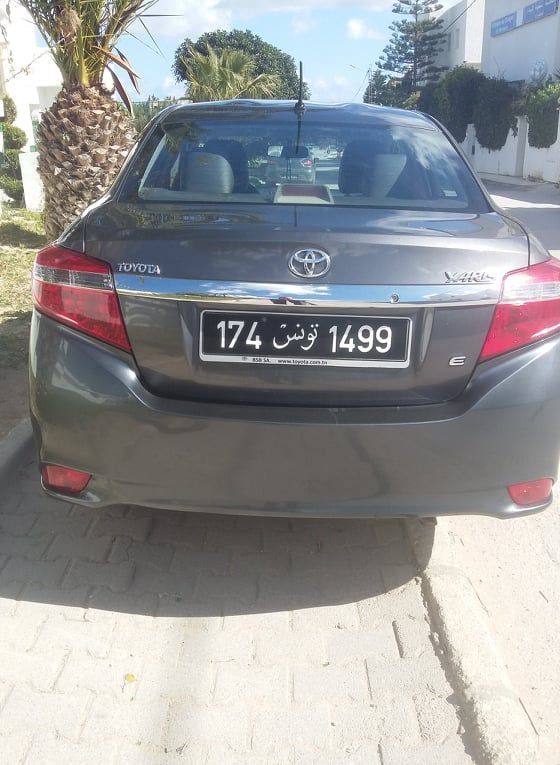LP: (199, 309, 411, 363)
